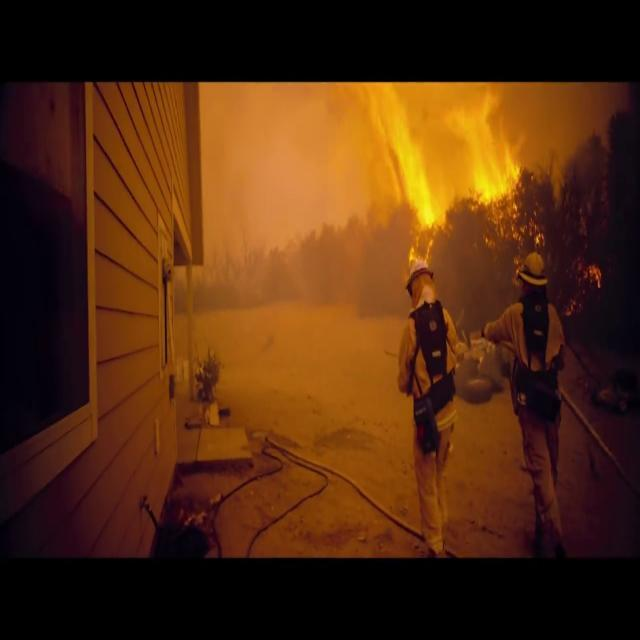Fire: (336, 86, 556, 196)
Smoke: (230, 127, 313, 236)
